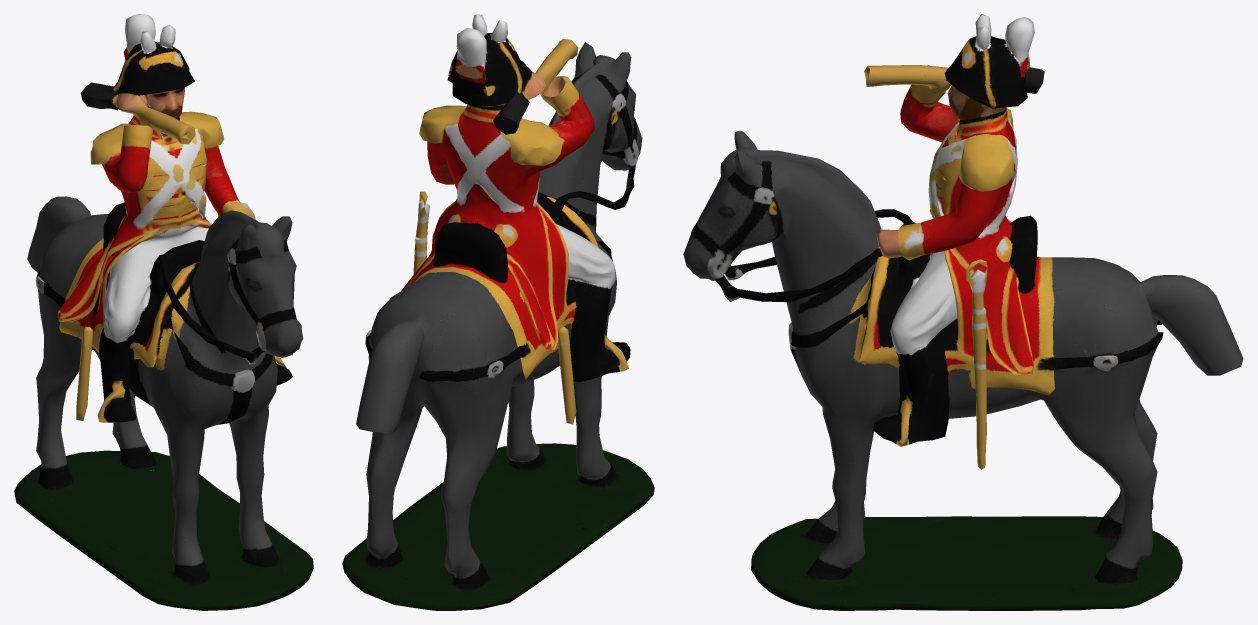
Rendered from general.glb.
The picture shows the model from 3 angles, left to right: view 1: azimuth 30°, elevation 25°; view 2: azimuth 150°, elevation 25°; view 3: azimuth 270°, elevation 25°; orthographic projection. The views are drawn at different scales.
Visible parts, largest first — view 1: world; view 2: world; view 3: world.
Part boxes in pixels (x1,y1,x2,y2): world: (14, 14, 313, 610); world: (342, 14, 654, 610); world: (683, 14, 1243, 610).
Size of the model in its own units: 0.3991 by 1 by 0.9257.
1 material, 1 textured.
